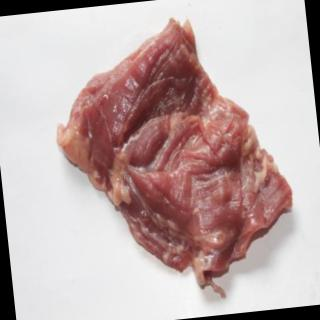Daging Sapi: (47, 10, 300, 300)
